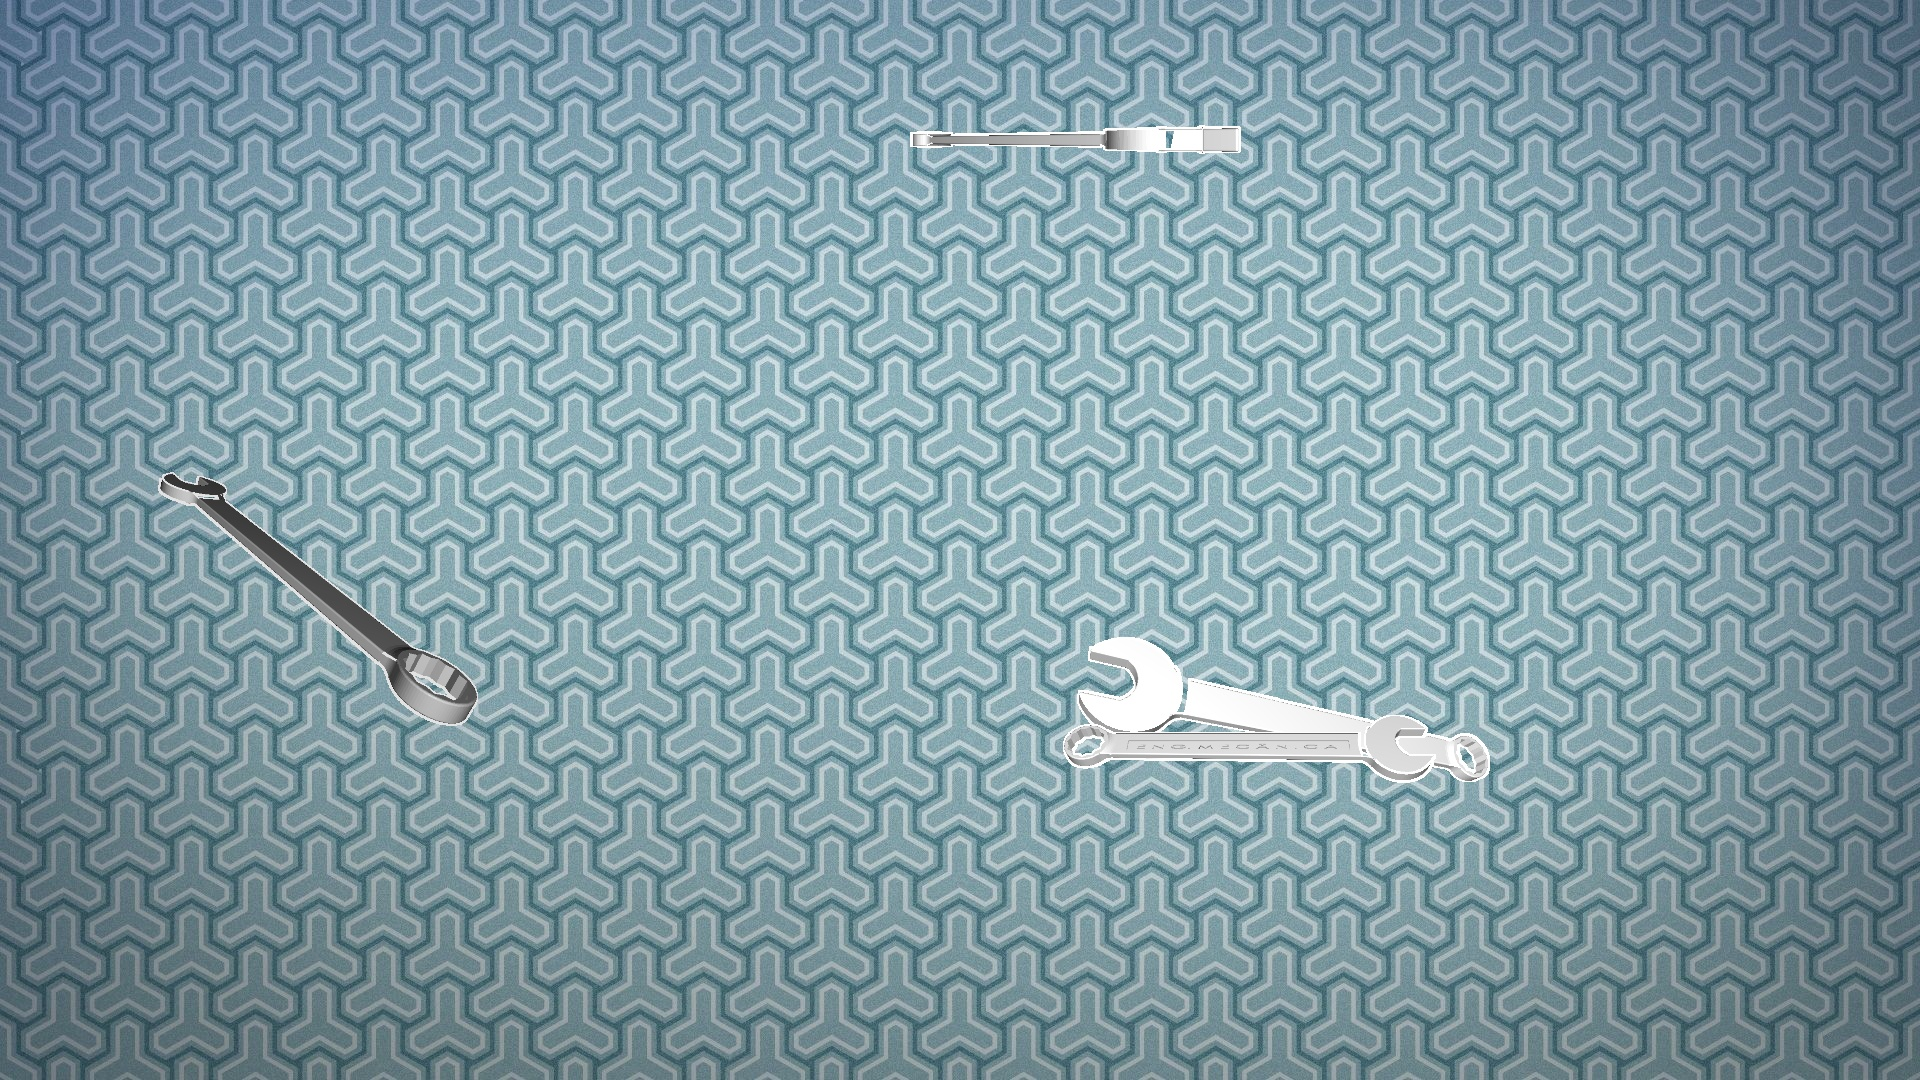Mixed Key: (158, 472, 477, 725), (1077, 637, 1489, 781), (1063, 715, 1435, 782), (910, 125, 1240, 153)
